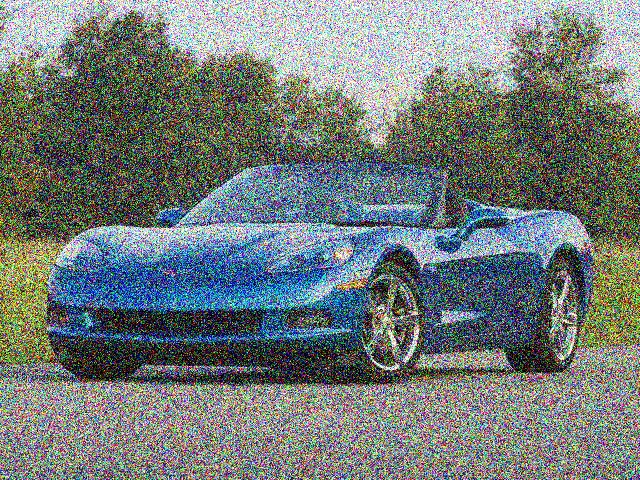car: (0, 151, 618, 393)
